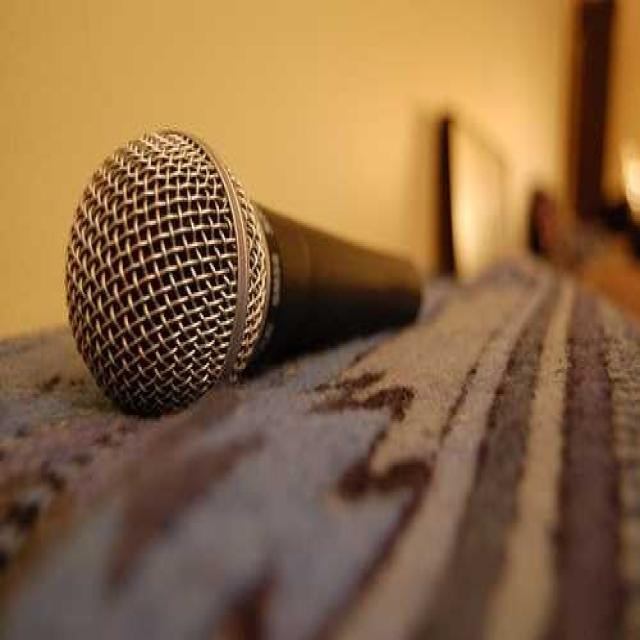microphone: (61, 127, 415, 406)
